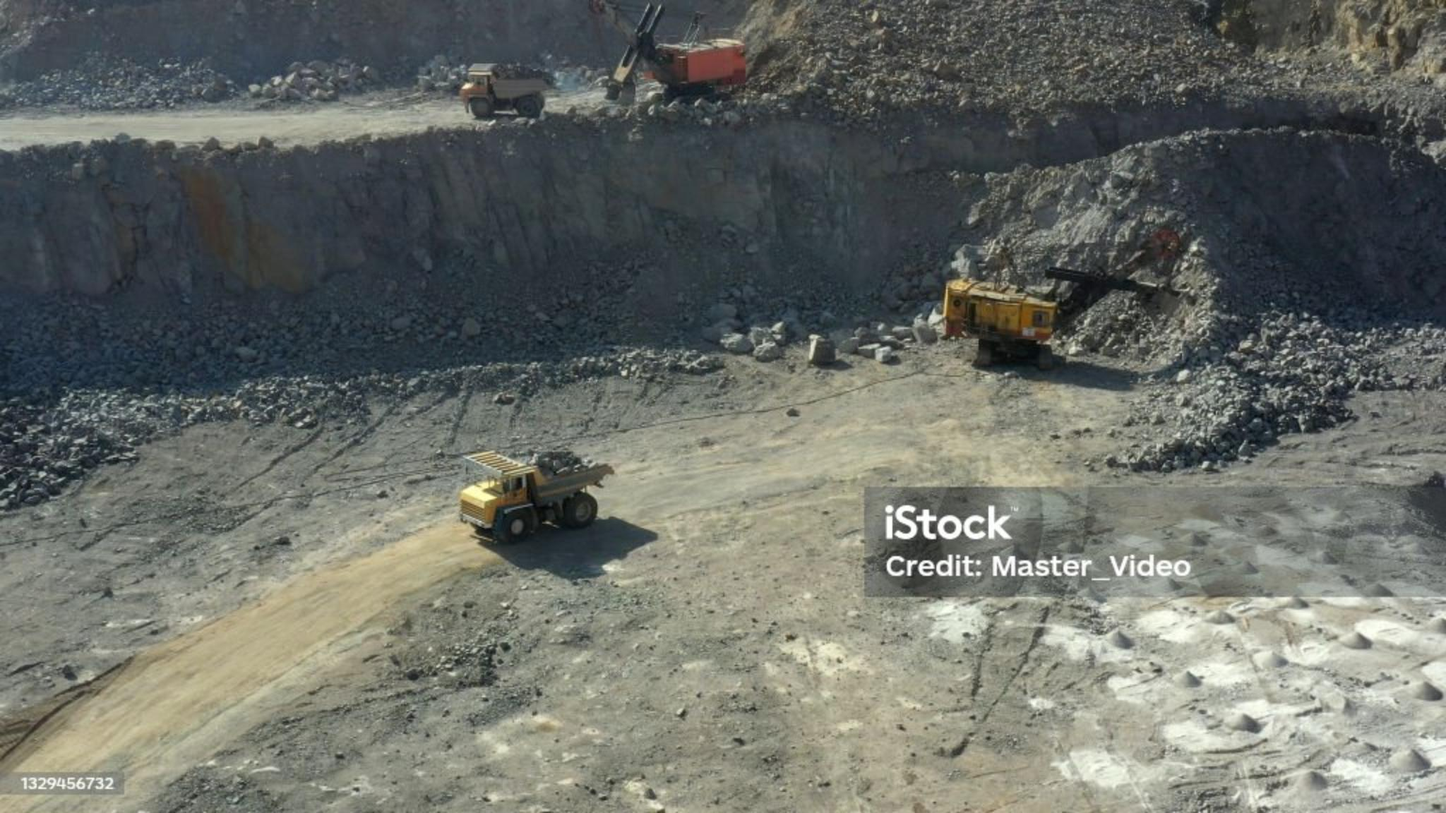benches: (0, 524, 501, 797), (0, 93, 480, 148)
excavator: (634, 28, 770, 94)
truck: (457, 453, 613, 543), (462, 69, 567, 124)
wall: (0, 116, 1155, 299), (1244, 136, 1390, 282)
